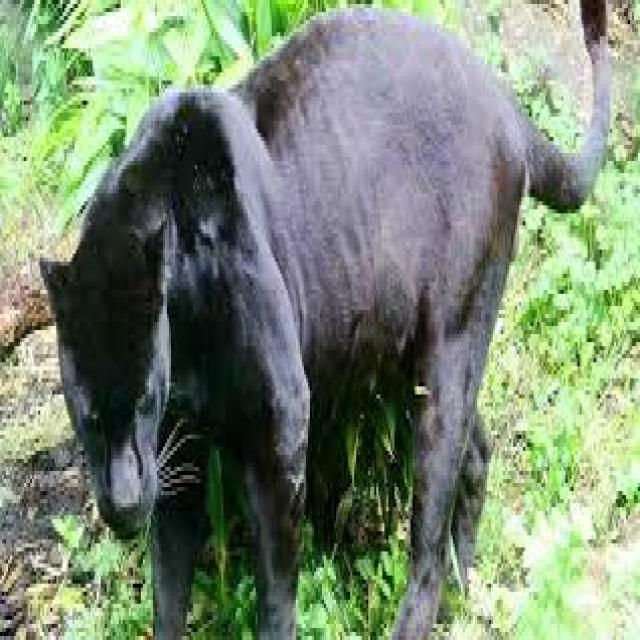Jaguar: (61, 24, 514, 608)
